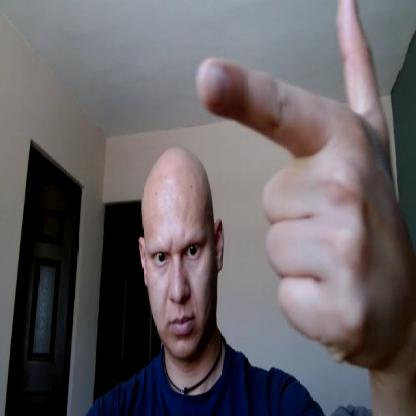G: (196, 0, 407, 361)
